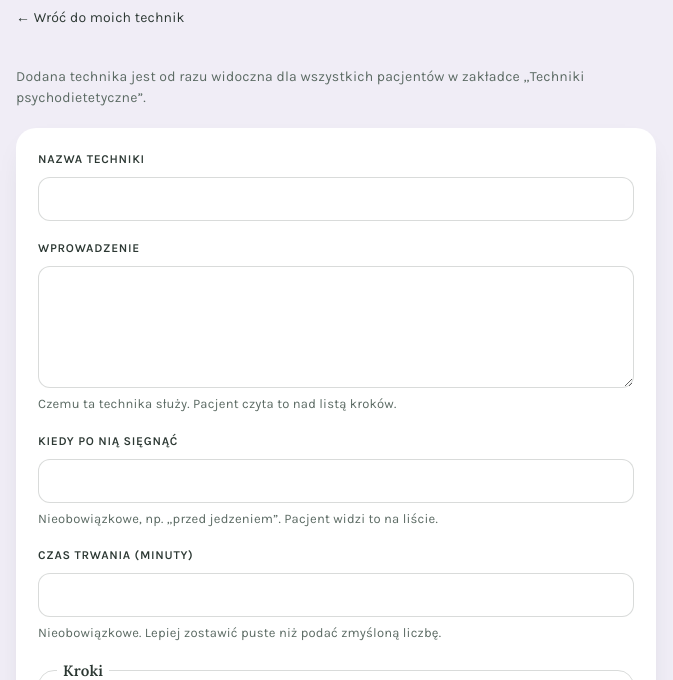
the form › names the empty step instead of sending the form
This screenshot has width=673, height=680.
Type "X" into the field labelled "Nazwa techniki" at (336, 199), box [38,177,634,221]
(page scrolled)
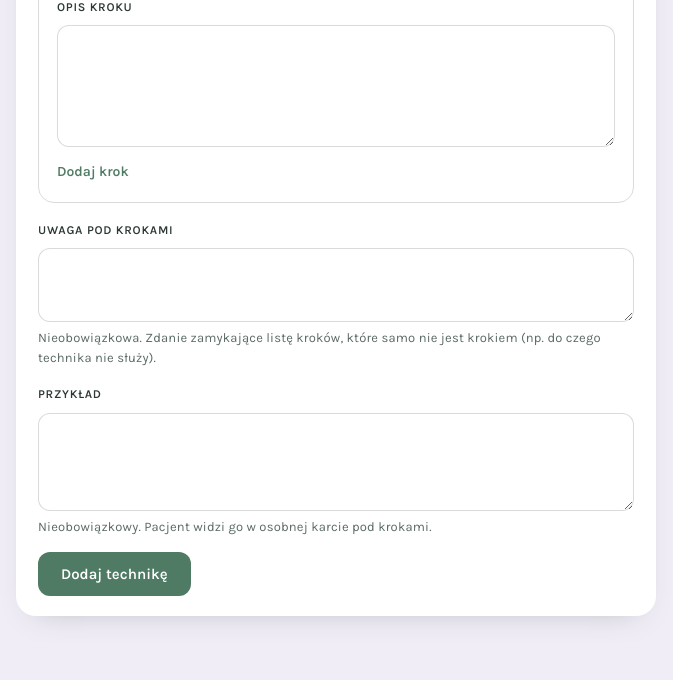
Click the button "Dodaj technikę" at (114, 574), box [38,552,191,596]
(page scrolled)
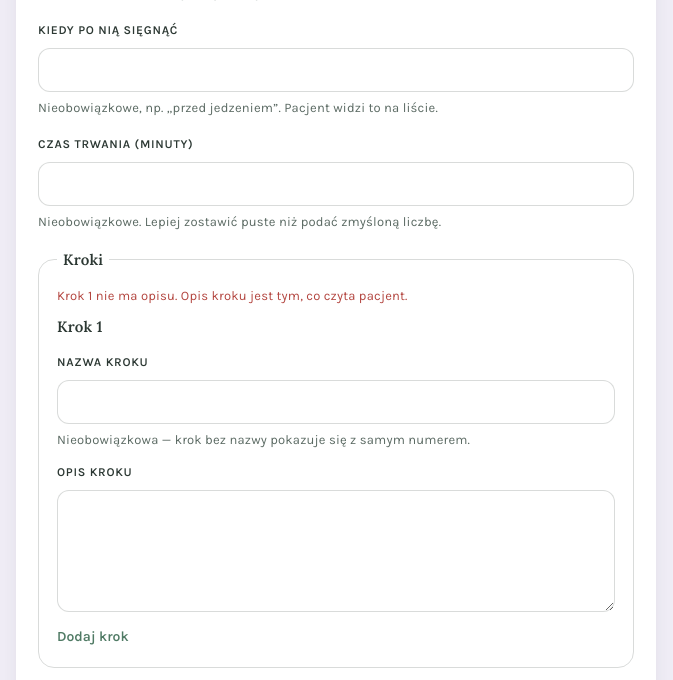
Expected: the text "Krok 1 nie ma opisu. Opis kroku jest tym, co czyta pacjent." is shown, [57,288,408,303]
